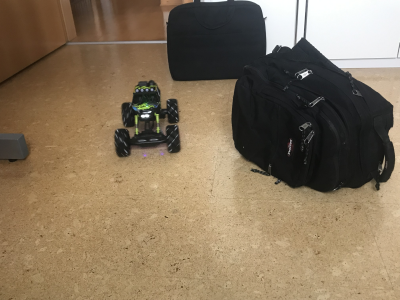remote control car: (113, 79, 181, 159)
